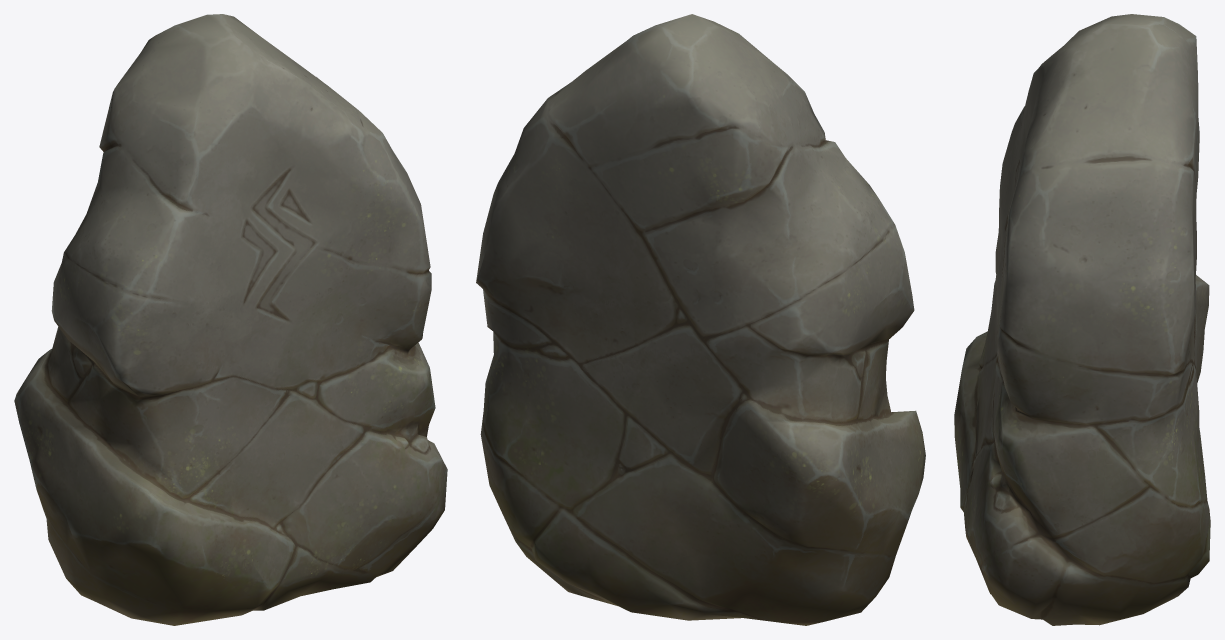
File: MSH_fwOF_Standing_Stone_3.fbx
3 views of the same model, side by side, from view 1: azimuth 30°, elevation 25°; view 2: azimuth 150°, elevation 25°; view 3: azimuth 270°, elevation 25° (orthographic). The views are drawn at different scales.
Visible parts, largest first — view 1: MSH_fwOF_Standing_Stone_3_LOD0; view 2: MSH_fwOF_Standing_Stone_3_LOD0; view 3: MSH_fwOF_Standing_Stone_3_LOD0.
Boxes of the visible parts, x1=… form: MSH_fwOF_Standing_Stone_3_LOD0: x1=14, y1=14, x2=447, y2=625; MSH_fwOF_Standing_Stone_3_LOD0: x1=476, y1=14, x2=925, y2=625; MSH_fwOF_Standing_Stone_3_LOD0: x1=954, y1=14, x2=1210, y2=625.
Size of what is drawn, in the model's own units: 3.54 by 5 by 2.16.
